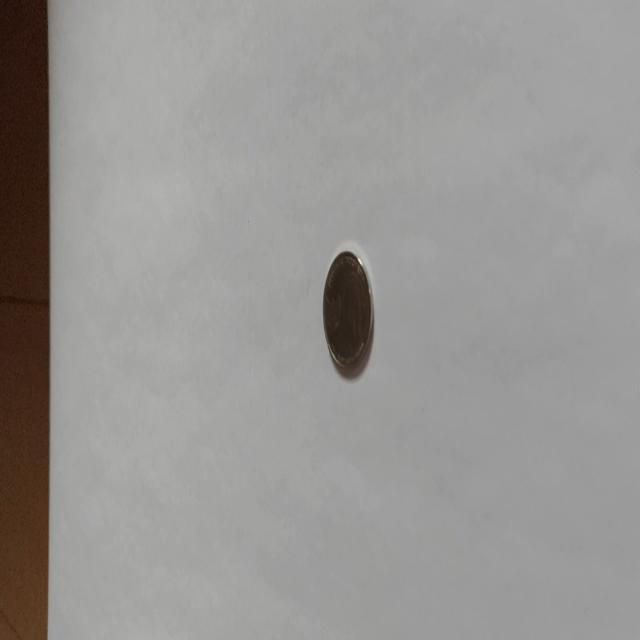seribu rupiah koin: (322, 246, 374, 374)
